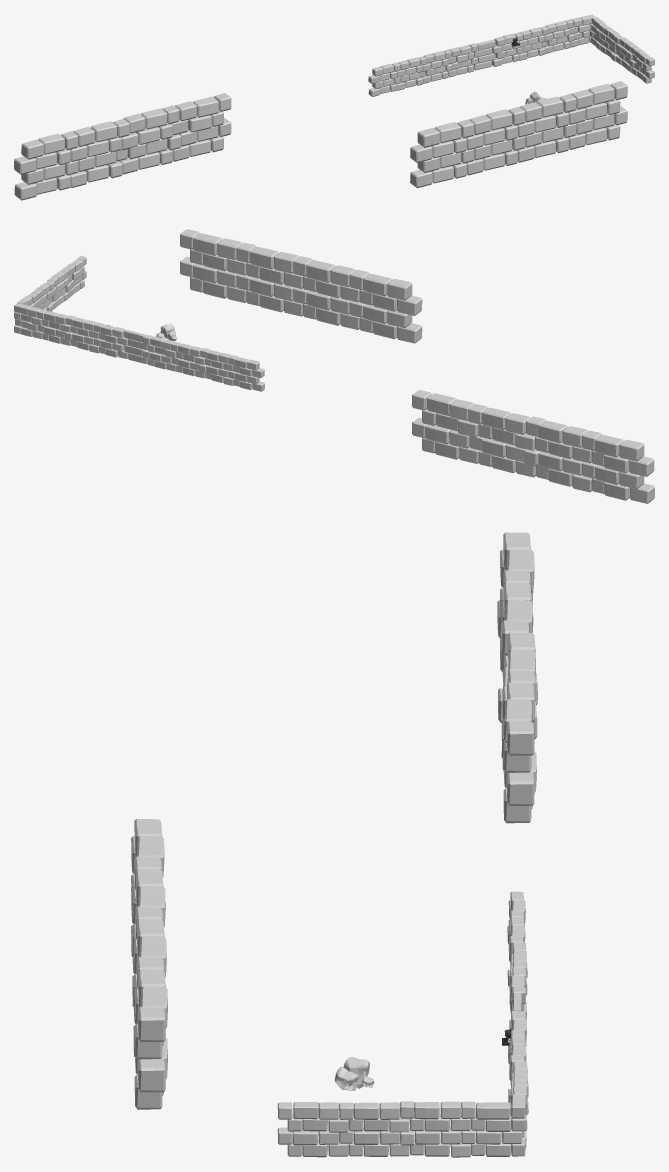
The model's file is cuerpo tot.fbx.
3 views of the same model, one above another, from view 1: azimuth 30°, elevation 25°; view 2: azimuth 150°, elevation 25°; view 3: azimuth 270°, elevation 25° (orthographic). The views are drawn at different scales.
Visible parts, largest first — view 1: Cube.083, Cube.001, Cube.009, Cube.032, Cube.052; view 2: Cube.001, Cube.083, Cube.009, Cube.032, Cube.052; view 3: Cube.009, Cube.001, Cube.083, Cube.032.
Part boxes in pixels (<box>): Cube.083: <box>410,81,627,188</box>; Cube.001: <box>14,93,231,200</box>; Cube.009: <box>491,14,654,83</box>; Cube.032: <box>368,43,477,96</box>; Cube.052: <box>473,39,495,70</box>; Cube.001: <box>412,390,654,503</box>; Cube.083: <box>180,229,422,343</box>; Cube.009: <box>14,256,128,358</box>; Cube.032: <box>143,334,264,391</box>; Cube.052: <box>124,330,147,363</box>; Cube.009: <box>277,1011,528,1157</box>; Cube.001: <box>497,532,537,823</box>; Cube.083: <box>131,819,167,1109</box>; Cube.032: <box>507,891,527,1020</box>.
Bounding box in the file's own units: 9166 × 853 × 2783.
Materials: 5 (2 with a texture image).
